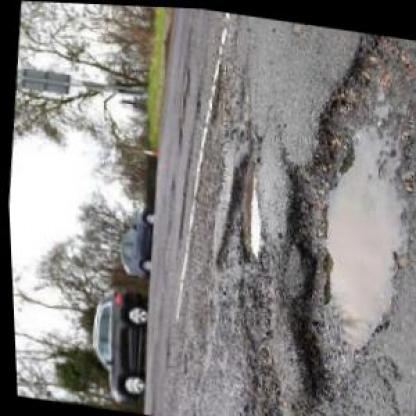pothole: (254, 19, 414, 412), (204, 144, 272, 272), (168, 64, 191, 144), (204, 60, 226, 119)
